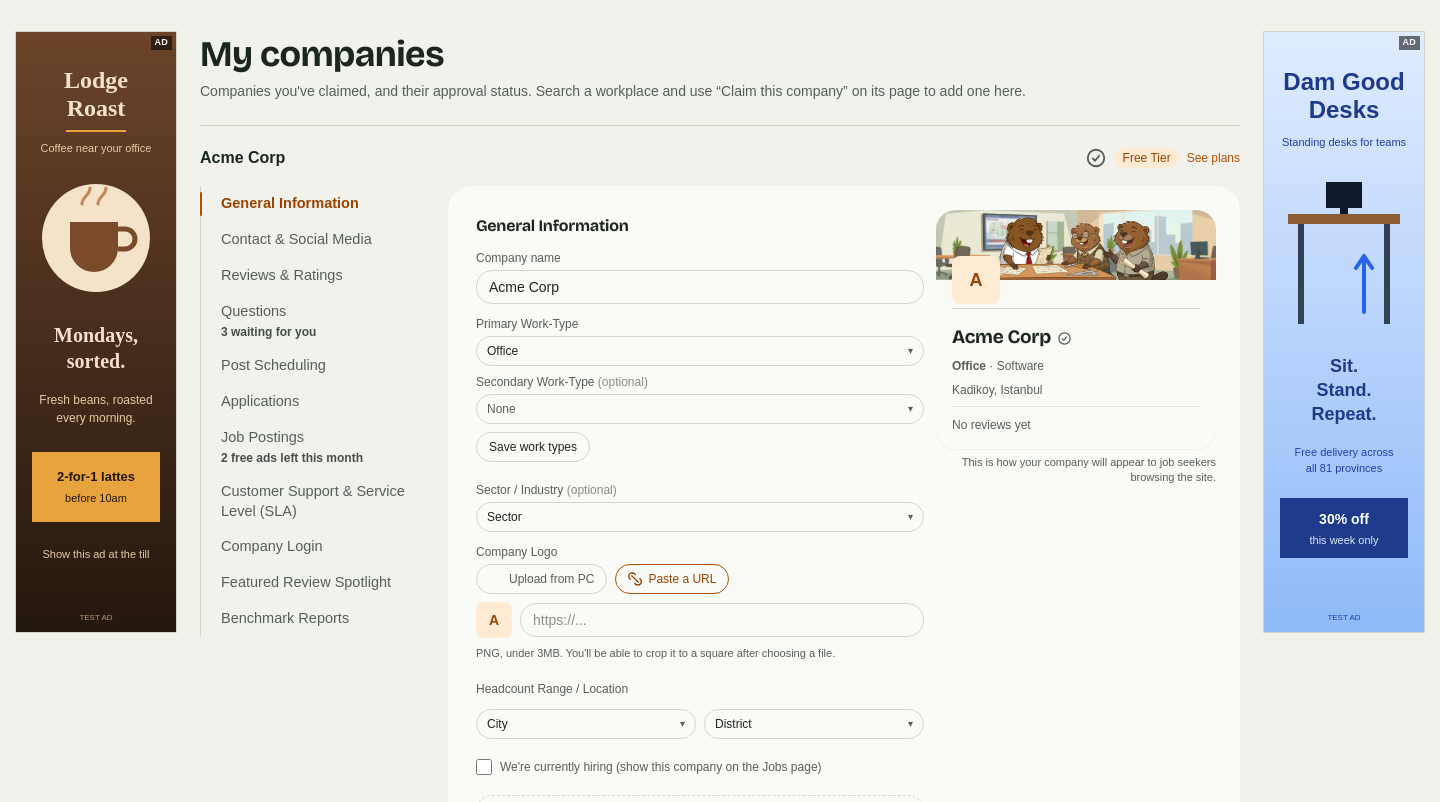
Test: Contact & Social Media box shows the exact KVKK contact-number notice
Expected: the button with aria-label "Primary work-type" shows "Office", [476,336,924,366]
What coordinates should you click on to do the following:
click the button "Contact & Social Media"
I would click on:
 (312, 240)
Its box is [201,222,424,258].
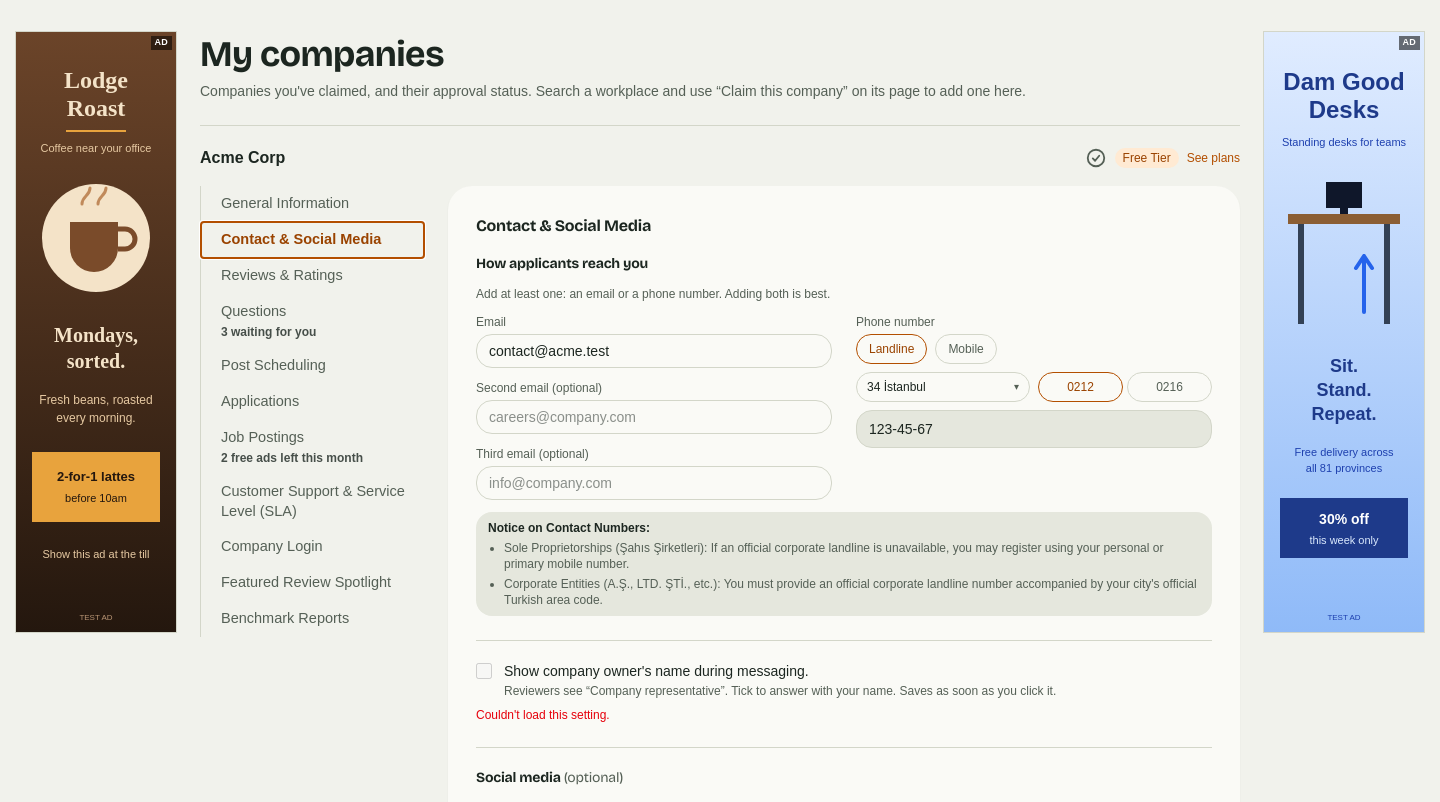
Expected: the text "Notice on Contact Numbers:" is shown, [488,521,650,535]
Expected: the list item "you may register using your personal or primary mobile number" is shown, [504,541,1164,571]
